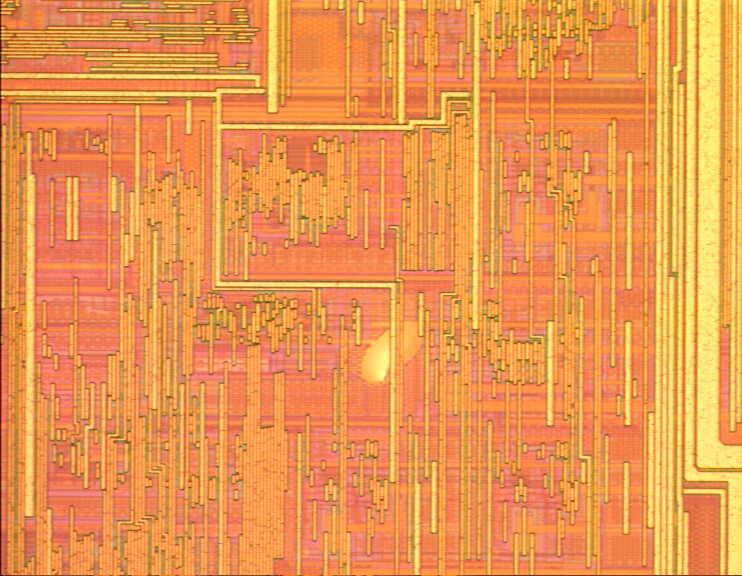BLOCK ETCH: (358, 311, 434, 390)
